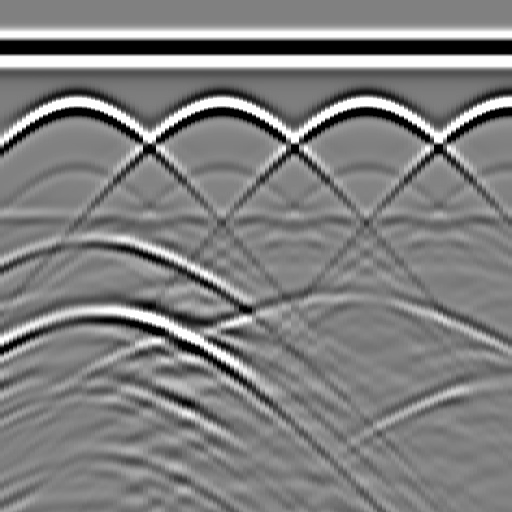grout_surface: (1, 203, 512, 233)
rebar: (55, 86, 95, 126), (199, 86, 239, 126), (344, 86, 384, 126), (488, 86, 512, 126)
rock_surface: (1, 292, 511, 388)
water_void: (64, 216, 124, 256)
